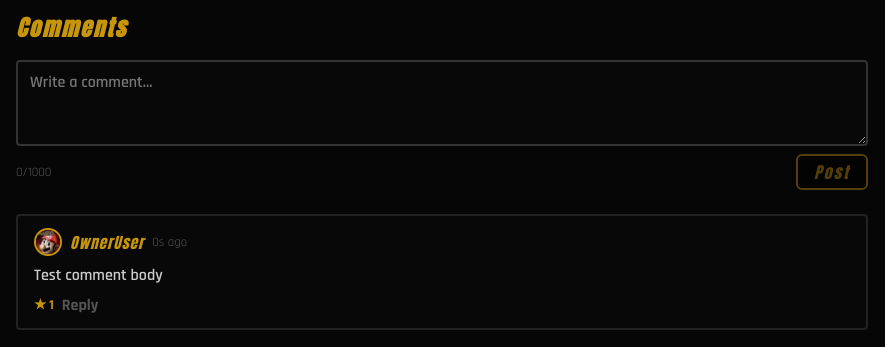
Test: CommentSection — logged-in as different user › kudos count decrements optimistically on remove
Click the button titled "remove kudos": [44, 305] box [34,295,54,316]
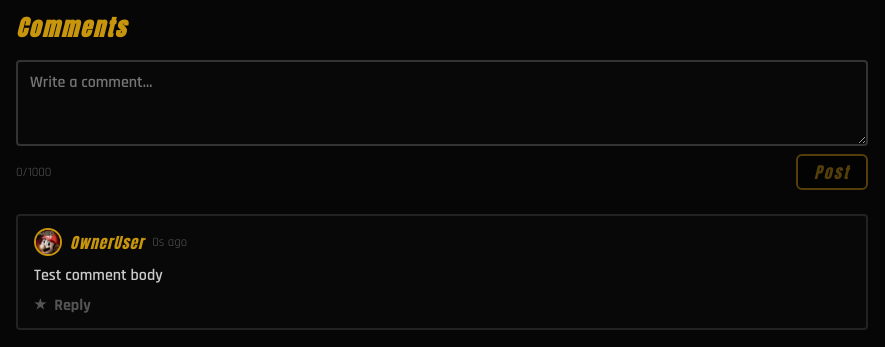
expect the button titled "give kudos" is shown: met, box [34,295,46,316]
